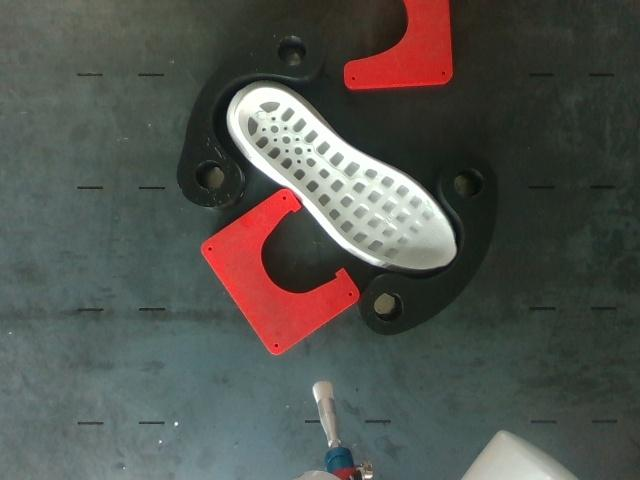shoes: (238, 88, 455, 269)
